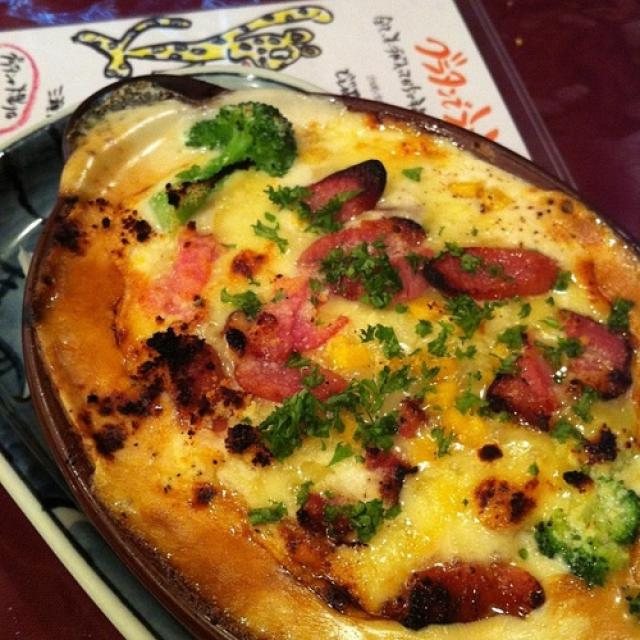米饭主食: (27, 52, 623, 621)
